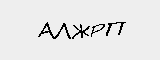А: (37, 19, 54, 41)
Ж: (73, 19, 88, 41)
Л: (57, 20, 71, 41)
П: (104, 20, 129, 39)
Р: (89, 22, 105, 39)
